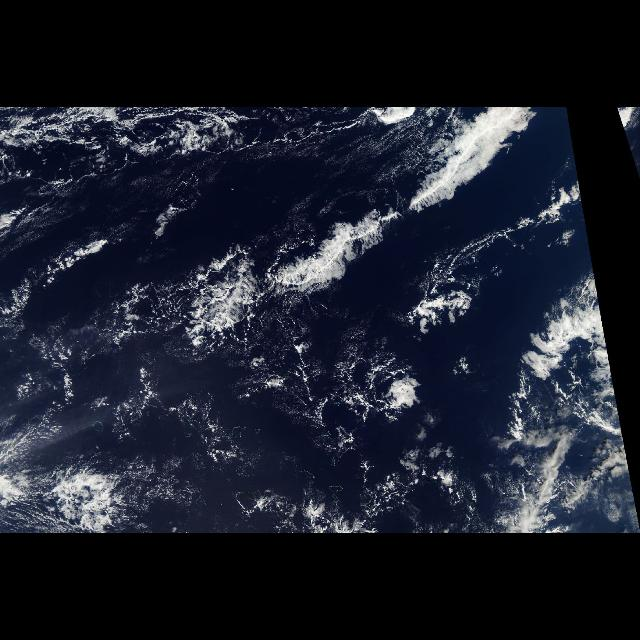Fish: (169, 107, 581, 341)
